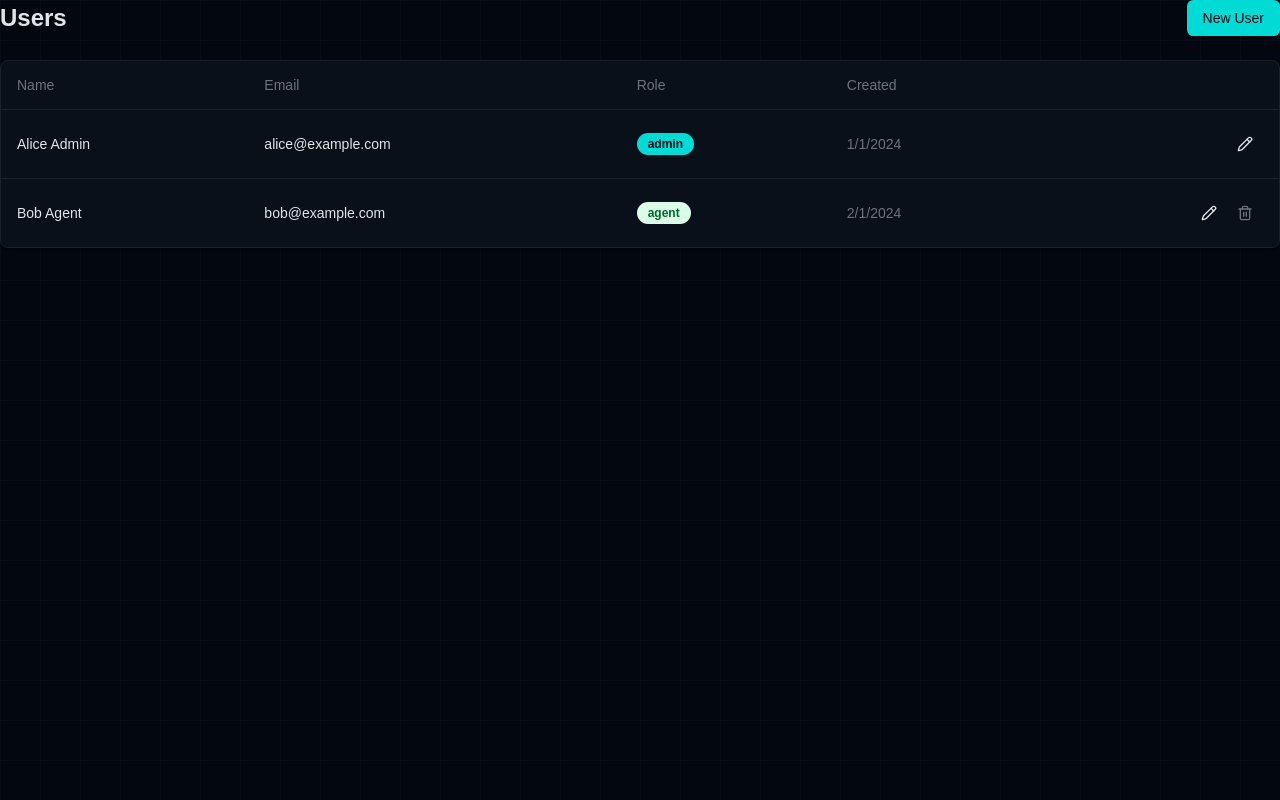
Test: UsersPage › create user modal › opens on New User click and closes with the X button
The width and height of the screenshot is (1280, 800).
Check: the text "Alice Admin" is shown, box [1,109,248,178]
Click the button "New User" at {"x": 1233, "y": 18}, box [1186,0,1279,36]
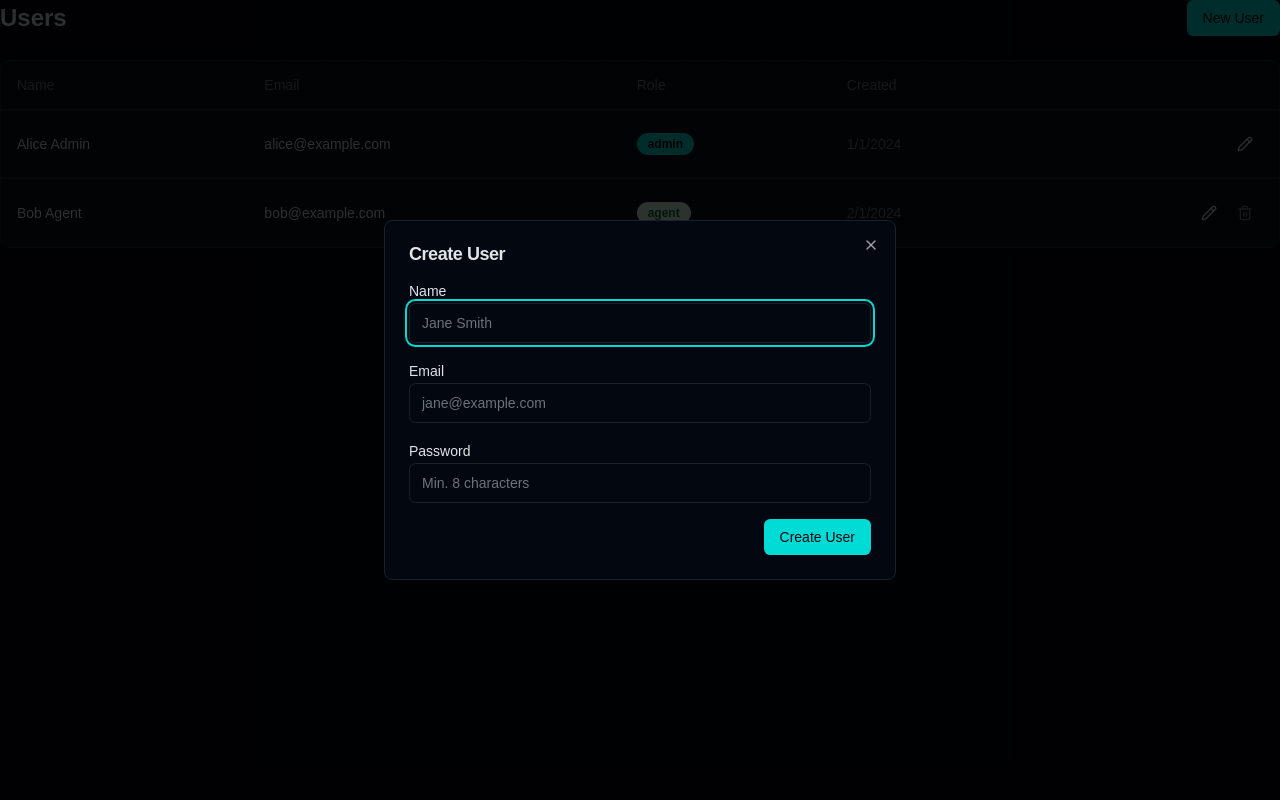
Check: the dialog is shown, box [384,220,896,580]
Check: the heading "Create User" is shown, box [409,244,505,264]
Click the button named "Close" at {"x": 871, "y": 245}, box [863,237,879,253]
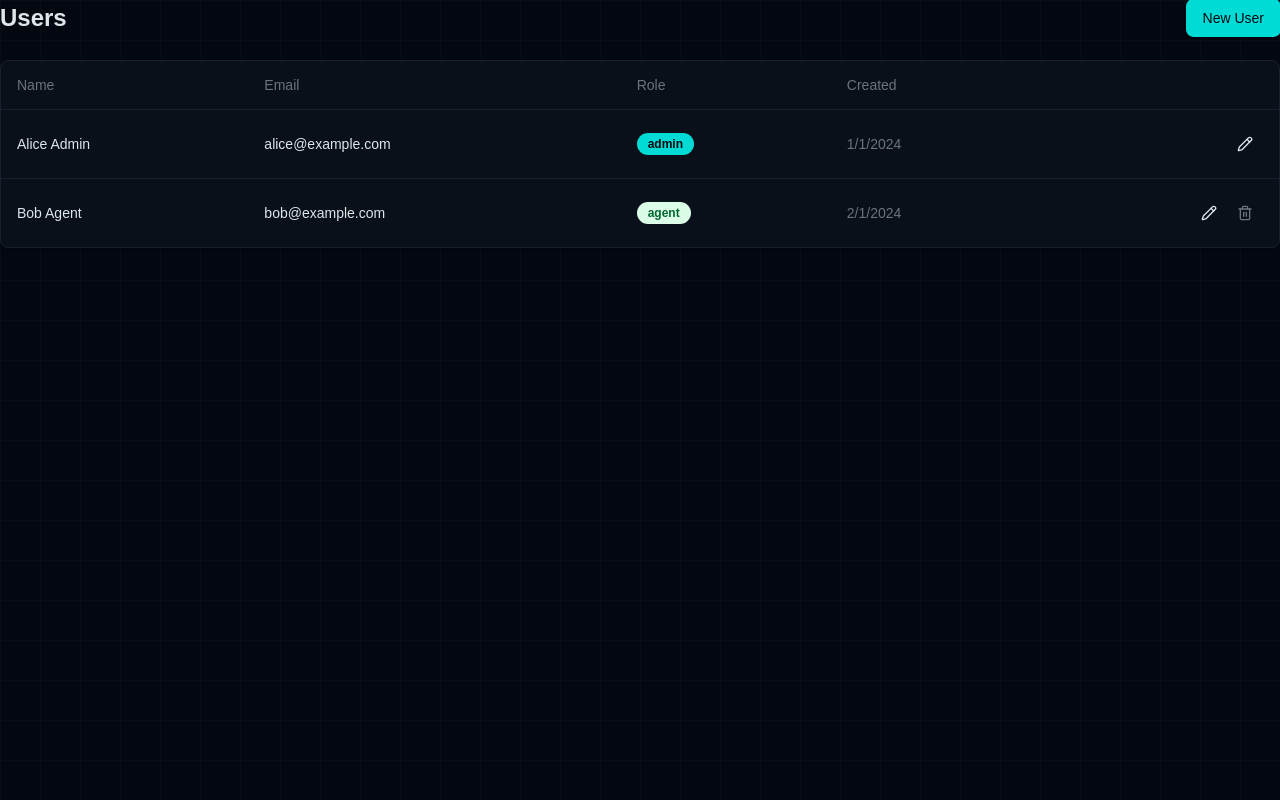
Check: the dialog is gone
